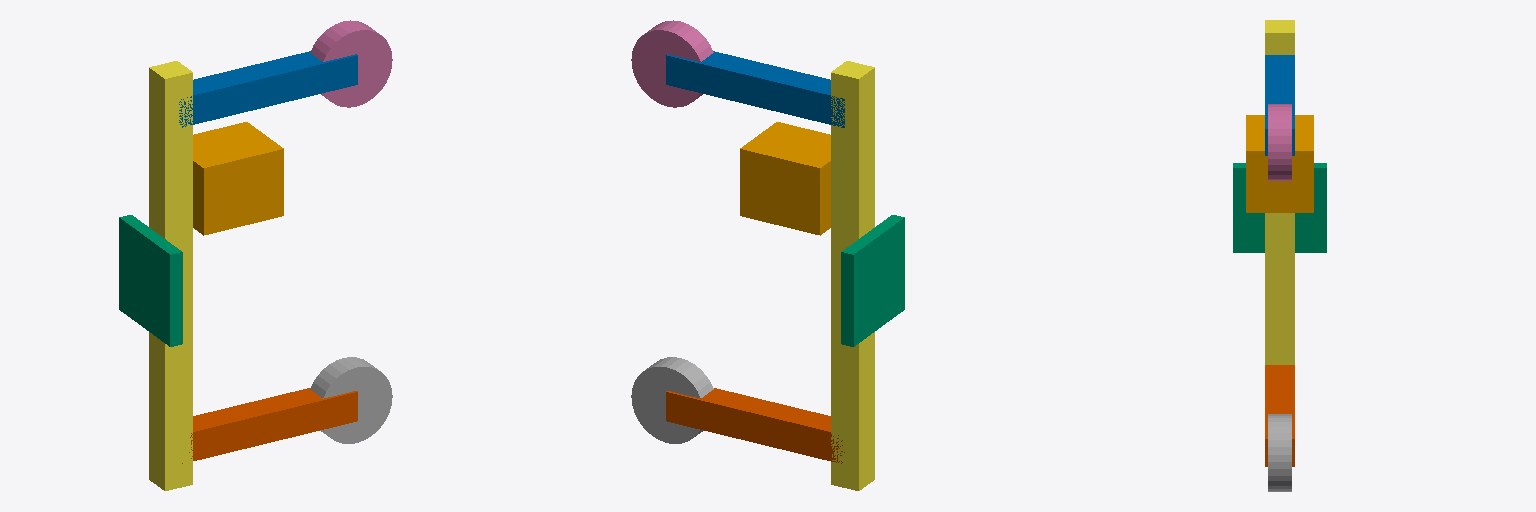
The robot description file, URDF, robot "irb6700":
<?xml version="1.0"?>
<robot name="irb6700" xmlns:tesseract="https://github.com/tesseract-robotics/tesseract" tesseract:make_convex="true">
  <link name="world"/>
  <joint name="world-base" type="fixed"><parent link="world"/><child link="base_link"/><origin xyz="0 0 0" rpy="0 0 0"/></joint>
  <link name="base_link"><visual><origin xyz="0 0 0" rpy="0 0 0"/><geometry><mesh filename="package://cells/meshes/irb6700/visual/base_link.stl"/></geometry></visual><collision><origin xyz="0 0 0" rpy="0 0 0"/><geometry><mesh filename="package://cells/meshes/irb6700/base_link.stl"/></geometry></collision></link>
  <link name="link_1"><visual><origin xyz="0 0 0" rpy="0 0 0"/><geometry><mesh filename="package://cells/meshes/irb6700/visual/link_1.stl"/></geometry></visual><collision><origin xyz="0 0 0" rpy="0 0 0"/><geometry><mesh filename="package://cells/meshes/irb6700/link_1.stl"/></geometry></collision></link>
  <link name="link_2"><visual><origin xyz="0 0 0" rpy="0 0 0"/><geometry><mesh filename="package://cells/meshes/irb6700/visual/link_2.stl"/></geometry></visual><collision><origin xyz="0 0 0" rpy="0 0 0"/><geometry><mesh filename="package://cells/meshes/irb6700/link_2.stl"/></geometry></collision></link>
  <link name="link_3"><visual><origin xyz="0 0 0" rpy="0 0 0"/><geometry><mesh filename="package://cells/meshes/irb6700/visual/link_3.stl"/></geometry></visual><collision><origin xyz="0 0 0" rpy="0 0 0"/><geometry><mesh filename="package://cells/meshes/irb6700/link_3.stl"/></geometry></collision></link>
  <link name="link_4"><visual><origin xyz="0 0 0" rpy="0 0 0"/><geometry><mesh filename="package://cells/meshes/irb6700/visual/link_4.stl"/></geometry></visual><collision><origin xyz="0 0 0" rpy="0 0 0"/><geometry><mesh filename="package://cells/meshes/irb6700/link_4.stl"/></geometry></collision></link>
  <link name="link_5"><visual><origin xyz="0 0 0" rpy="0 0 0"/><geometry><mesh filename="package://cells/meshes/irb6700/visual/link_5.stl"/></geometry></visual><collision><origin xyz="0 0 0" rpy="0 0 0"/><geometry><mesh filename="package://cells/meshes/irb6700/link_5.stl"/></geometry></collision></link>
  <link name="link_6"><visual><origin xyz="0 0 0" rpy="0 0 0"/><geometry><mesh filename="package://cells/meshes/irb6700/visual/link_6.stl"/></geometry></visual><collision><origin xyz="0 0 0" rpy="0 0 0"/><geometry><mesh filename="package://cells/meshes/irb6700/link_6.stl"/></geometry></collision></link>
  <link name="flange"></link>
  <link name="tool0"></link>
  <joint name="joint_1" type="revolute"><parent link="base_link"/><child link="link_1"/><origin xyz="0 0 0.78" rpy="0 0 0"/><axis xyz="0 0 1"/><limit effort="0" lower="-2.967060" upper="2.967060" velocity="1.919862"/></joint>
  <joint name="joint_2" type="revolute"><parent link="link_1"/><child link="link_2"/><origin xyz="0.32 0 0" rpy="0 0 0"/><axis xyz="0 1 0"/><limit effort="0" lower="-1.134464" upper="1.483530" velocity="1.919862"/></joint>
  <joint name="joint_3" type="revolute"><parent link="link_2"/><child link="link_3"/><origin xyz="0 0 1.125" rpy="0 0 0"/><axis xyz="0 1 0"/><limit effort="0" lower="-3.141593" upper="1.221730" velocity="1.919862"/></joint>
  <joint name="joint_4" type="revolute"><parent link="link_3"/><child link="link_4"/><origin xyz="0 0 0.2" rpy="0 0 0"/><axis xyz="1 0 0"/><limit effort="0" lower="-5.235988" upper="5.235988" velocity="3.316126"/></joint>
  <joint name="joint_5" type="revolute"><parent link="link_4"/><child link="link_5"/><origin xyz="1.1425 0 0" rpy="0 0 0"/><axis xyz="0 1 0"/><limit effort="0" lower="-2.268928" upper="2.268928" velocity="2.617994"/></joint>
  <joint name="joint_6" type="revolute"><parent link="link_5"/><child link="link_6"/><origin xyz="0.2 0 0" rpy="0 0 0"/><axis xyz="1 0 0"/><limit effort="0" lower="-6.283185" upper="6.283185" velocity="3.665191"/></joint>
  <joint name="joint_6-flange" type="fixed"><parent link="link_6"/><child link="flange"/><origin xyz="0 0 0" rpy="0 0 0"/></joint>
  <joint name="link_6-tool0" type="fixed"><parent link="flange"/><child link="tool0"/><origin xyz="0 0 0" rpy="0 1.5707963267948966 0"/></joint>
  <link name="wiresaw_plate"><visual><origin xyz="0 0 0.015" rpy="0 0 0"/><geometry><box size="0.22 0.22 0.03"/></geometry></visual><collision><origin xyz="0 0 0.015" rpy="0 0 0"/><geometry><box size="0.22 0.22 0.03"/></geometry></collision></link>
  <joint name="tool0-wiresaw_plate" type="fixed"><parent link="tool0"/><child link="wiresaw_plate"/><origin xyz="0 0 0" rpy="0 0 0"/></joint>
  <link name="wiresaw_beam"><visual><origin xyz="0 0 0.065" rpy="0 0 0"/><geometry><box size="0.98 0.07 0.07"/></geometry></visual><collision><origin xyz="0 0 0.065" rpy="0 0 0"/><geometry><box size="0.98 0.07 0.07"/></geometry></collision></link>
  <joint name="tool0-wiresaw_beam" type="fixed"><parent link="tool0"/><child link="wiresaw_beam"/><origin xyz="0 0 0" rpy="0 0 0"/></joint>
  <link name="wiresaw_arm_a"><visual><origin xyz="-0.4 0 0.2875" rpy="0 0 0"/><geometry><box size="0.07 0.07 0.445"/></geometry></visual><collision><origin xyz="-0.4 0 0.2875" rpy="0 0 0"/><geometry><box size="0.07 0.07 0.445"/></geometry></collision></link>
  <joint name="tool0-wiresaw_arm_a" type="fixed"><parent link="tool0"/><child link="wiresaw_arm_a"/><origin xyz="0 0 0" rpy="0 0 0"/></joint>
  <link name="wiresaw_arm_b"><visual><origin xyz="0.4 0 0.2875" rpy="0 0 0"/><geometry><box size="0.07 0.07 0.445"/></geometry></visual><collision><origin xyz="0.4 0 0.2875" rpy="0 0 0"/><geometry><box size="0.07 0.07 0.445"/></geometry></collision></link>
  <joint name="tool0-wiresaw_arm_b" type="fixed"><parent link="tool0"/><child link="wiresaw_arm_b"/><origin xyz="0 0 0" rpy="0 0 0"/></joint>
  <link name="wiresaw_pulley_a"><visual><origin xyz="-0.4 0 0.51" rpy="1.5707963267948966 0 0"/><geometry><cylinder radius="0.09" length="0.05600000000000001"/></geometry></visual><collision><origin xyz="-0.4 0 0.51" rpy="1.5707963267948966 0 0"/><geometry><cylinder radius="0.09" length="0.05600000000000001"/></geometry></collision></link>
  <joint name="tool0-wiresaw_pulley_a" type="fixed"><parent link="tool0"/><child link="wiresaw_pulley_a"/><origin xyz="0 0 0" rpy="0 0 0"/></joint>
  <link name="wiresaw_pulley_b"><visual><origin xyz="0.4 0 0.51" rpy="1.5707963267948966 0 0"/><geometry><cylinder radius="0.09" length="0.05600000000000001"/></geometry></visual><collision><origin xyz="0.4 0 0.51" rpy="1.5707963267948966 0 0"/><geometry><cylinder radius="0.09" length="0.05600000000000001"/></geometry></collision></link>
  <joint name="tool0-wiresaw_pulley_b" type="fixed"><parent link="tool0"/><child link="wiresaw_pulley_b"/><origin xyz="0 0 0" rpy="0 0 0"/></joint>
  <link name="wiresaw_motor"><visual><origin xyz="-0.2 0 0.2" rpy="0 0 0"/><geometry><box size="0.16 0.16 0.2"/></geometry></visual><collision><origin xyz="-0.2 0 0.2" rpy="0 0 0"/><geometry><box size="0.16 0.16 0.2"/></geometry></collision></link>
  <joint name="tool0-wiresaw_motor" type="fixed"><parent link="tool0"/><child link="wiresaw_motor"/><origin xyz="0 0 0" rpy="0 0 0"/></joint>
</robot>

--- Facts derived from the render (not from the file) ---
Views: 3 orthographic renders of the robot side by side, from view 1: azimuth 30°, elevation 25°; view 2: azimuth 150°, elevation 25°; view 3: azimuth 270°, elevation 25°.
Model irb6700 with 17 links and 16 joints (6 revolute, 10 fixed), rooted at world, posed every joint at zero.
Links seen in each view (by area): view 1: wiresaw_beam, wiresaw_motor, wiresaw_arm_a, wiresaw_arm_b, wiresaw_plate, wiresaw_pulley_b, wiresaw_pulley_a; view 2: wiresaw_beam, wiresaw_motor, wiresaw_arm_a, wiresaw_arm_b, wiresaw_plate, wiresaw_pulley_b, wiresaw_pulley_a; view 3: wiresaw_beam, wiresaw_motor, wiresaw_plate, wiresaw_pulley_b, wiresaw_pulley_a, wiresaw_arm_b, wiresaw_arm_a.
Link boxes in pixels (bbox=[...]): wiresaw_beam: bbox=[149, 61, 192, 490]; wiresaw_motor: bbox=[193, 122, 283, 235]; wiresaw_arm_a: bbox=[179, 51, 357, 127]; wiresaw_arm_b: bbox=[182, 388, 357, 463]; wiresaw_plate: bbox=[119, 215, 182, 346]; wiresaw_pulley_b: bbox=[310, 357, 392, 443]; wiresaw_pulley_a: bbox=[310, 20, 392, 107]; wiresaw_beam: bbox=[831, 61, 874, 490]; wiresaw_motor: bbox=[740, 122, 830, 235]; wiresaw_arm_a: bbox=[666, 51, 844, 127]; wiresaw_arm_b: bbox=[666, 388, 844, 463]; wiresaw_plate: bbox=[841, 215, 904, 346]; wiresaw_pulley_b: bbox=[631, 357, 713, 443]; wiresaw_pulley_a: bbox=[631, 20, 713, 107]; wiresaw_beam: bbox=[1265, 20, 1294, 364]; wiresaw_motor: bbox=[1246, 115, 1313, 212]; wiresaw_plate: bbox=[1233, 163, 1326, 252]; wiresaw_pulley_b: bbox=[1268, 414, 1291, 491]; wiresaw_pulley_a: bbox=[1268, 104, 1291, 180]; wiresaw_arm_b: bbox=[1265, 365, 1294, 466]; wiresaw_arm_a: bbox=[1265, 55, 1294, 155].
Bounding box of the posed robot: 0.6 × 0.22 × 0.98 m (x, y, z).
Meshes: 7 distinct files referenced, 0 mesh visuals loaded (none loaded); not drawn: 7 (reference not matched to a file when rendering).
